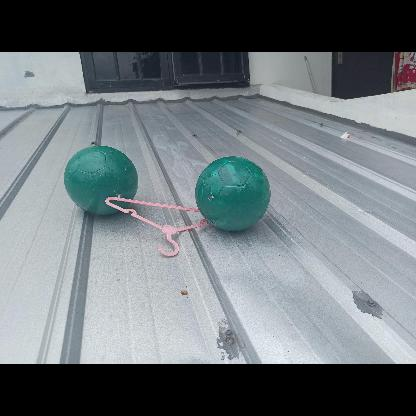green_ball: (196, 154, 270, 230), (64, 143, 136, 216)
